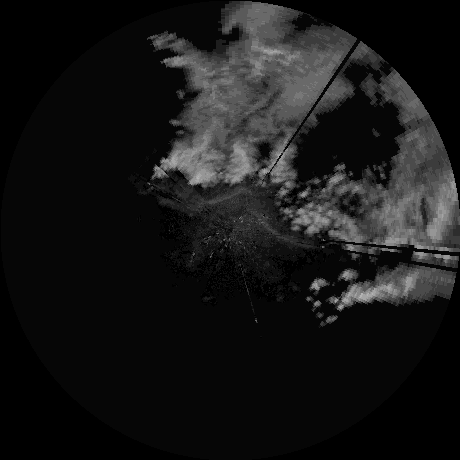frontgust: (157, 186, 249, 215), (257, 213, 322, 251)
